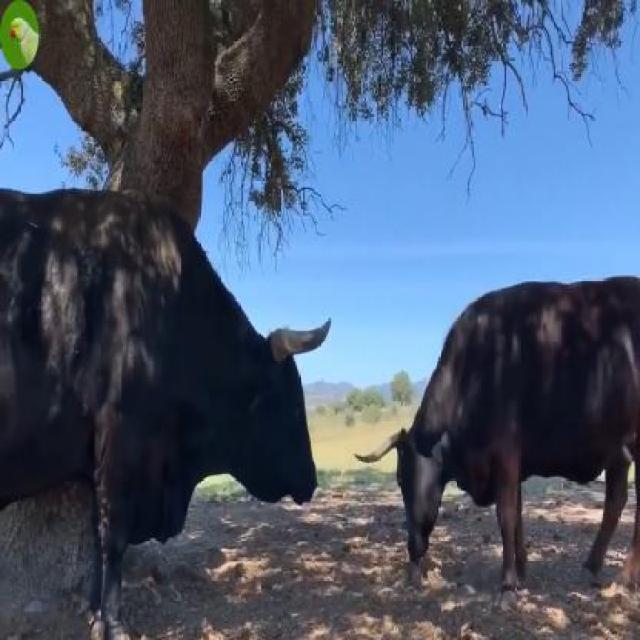Cow: (0, 191, 334, 638), (354, 278, 638, 591)
